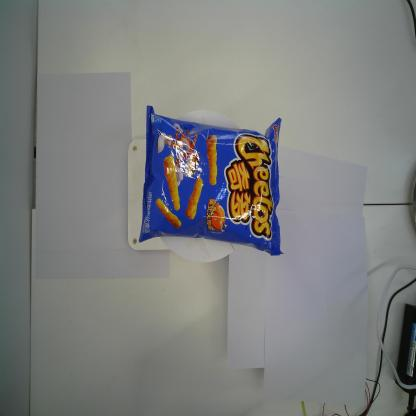Puffed Food: (138, 104, 284, 260)
